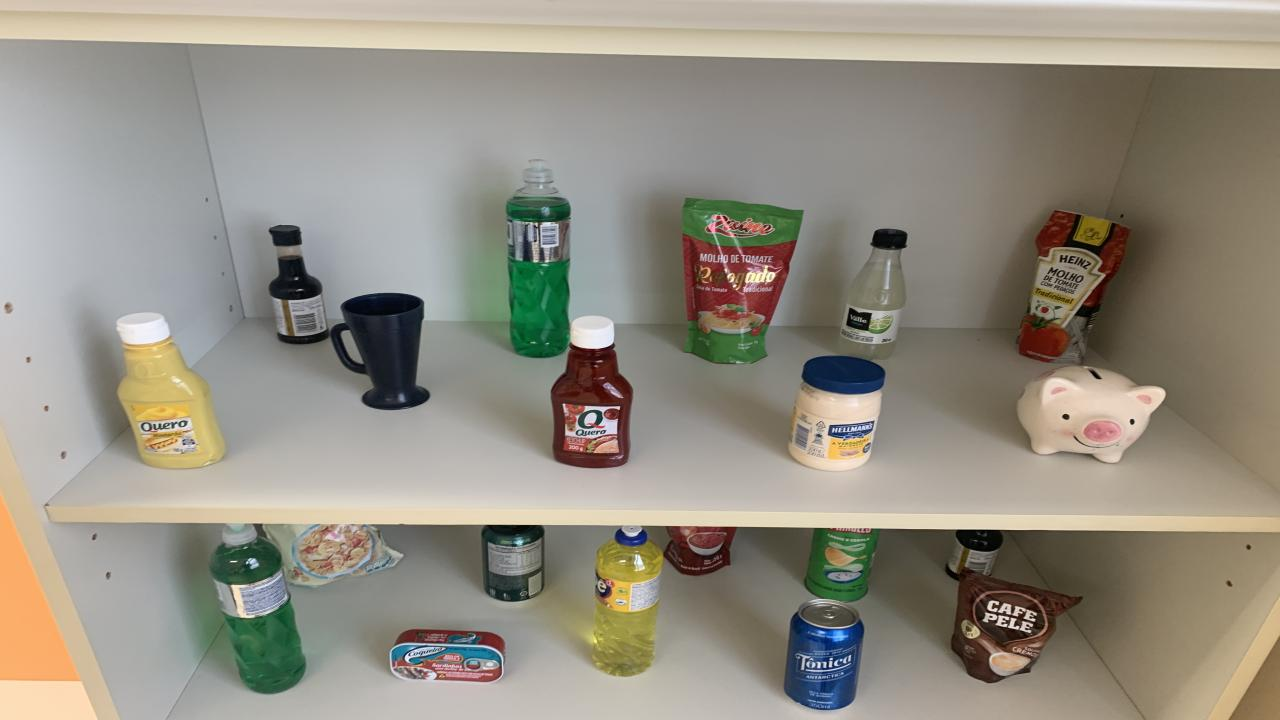Coffee-Pantry_Items: (950, 568, 1082, 682)
Detergent-Cleanup_Items: (210, 525, 305, 694), (505, 159, 570, 358), (592, 525, 662, 677)
English_Sauce-Pantry_Items: (270, 225, 330, 345), (945, 531, 1002, 579)
Flakes-Snacks: (262, 523, 402, 587)
Guarana_Can-Drinks: (480, 525, 545, 602)
Ketchup-Pantry_Items: (550, 317, 632, 467)
Mayonnaise-Pantry_Items: (790, 354, 885, 471)
Mustard-Pantry_Items: (115, 311, 225, 469)
Pig_Safe-Miscellaneous: (1018, 366, 1165, 463)
Pringles-Snacks: (805, 529, 880, 602)
Soda-Drinks: (838, 229, 908, 360)
Tomato_Sauce-Pantry_Items: (682, 199, 802, 364), (1018, 210, 1130, 364), (665, 527, 735, 576)
Tonic-Drinks: (785, 598, 865, 709)
Tuna_Can-Pantry_Items: (390, 630, 505, 682)
